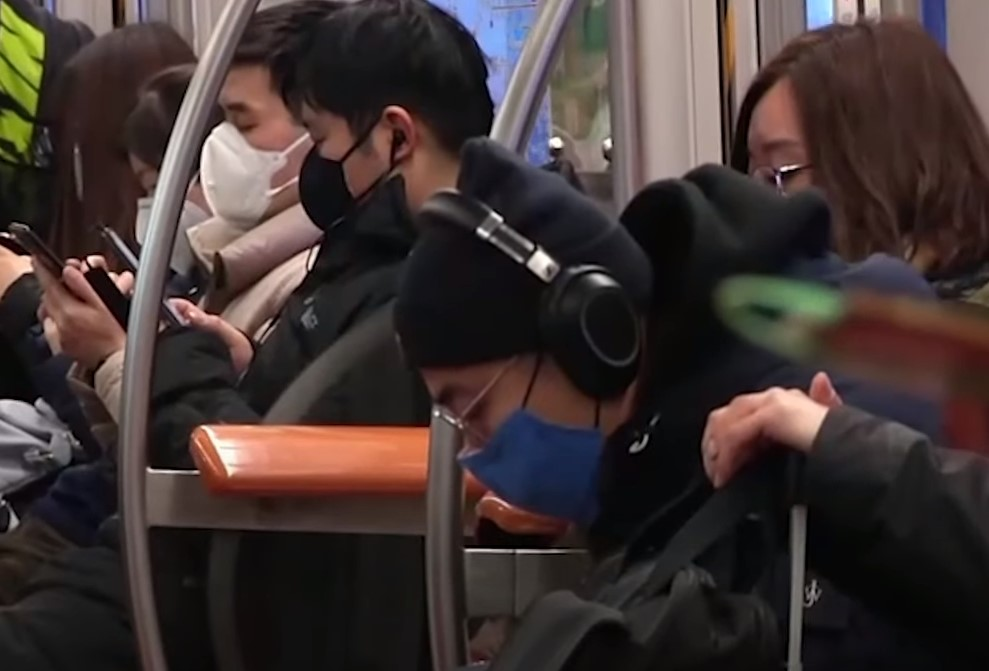face_with_mask: (400, 142, 653, 544), (294, 9, 468, 244), (197, 13, 315, 235)
